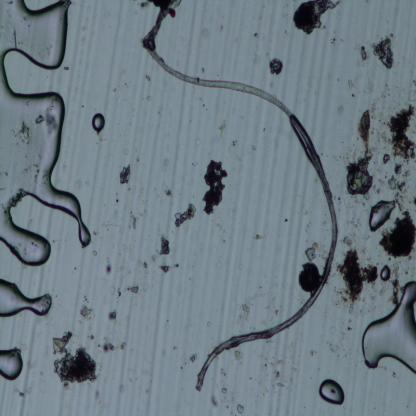Air bubble: (0, 0, 94, 267), (358, 280, 416, 384), (0, 279, 54, 321), (0, 346, 26, 384), (367, 200, 396, 234), (317, 379, 350, 404), (88, 110, 106, 134)
Background material: (345, 101, 381, 204), (45, 329, 100, 389), (340, 234, 382, 302), (381, 98, 416, 174), (201, 156, 229, 216), (386, 162, 416, 218), (290, 0, 336, 36), (385, 215, 416, 262), (370, 33, 404, 74), (31, 109, 58, 134), (384, 267, 402, 302), (168, 208, 194, 227), (268, 53, 285, 78), (156, 233, 172, 259), (365, 72, 382, 94), (80, 302, 99, 320), (116, 161, 130, 184), (16, 122, 30, 143), (327, 336, 348, 350), (238, 305, 256, 320), (306, 240, 319, 260), (158, 262, 178, 274), (217, 121, 229, 140), (108, 310, 120, 328), (380, 264, 392, 281), (370, 102, 380, 122), (127, 284, 142, 297), (406, 87, 416, 105), (104, 262, 115, 278), (249, 52, 262, 65), (276, 366, 283, 389), (128, 216, 138, 231), (235, 401, 245, 415), (199, 26, 210, 38), (235, 348, 244, 362), (142, 93, 154, 103), (164, 186, 174, 198), (137, 0, 147, 11), (161, 154, 170, 166), (360, 47, 366, 64), (336, 105, 346, 115), (120, 341, 130, 351), (346, 78, 354, 90), (119, 262, 127, 274), (252, 30, 261, 40), (106, 344, 117, 352), (387, 84, 393, 98), (117, 286, 123, 300), (141, 261, 150, 270), (216, 220, 223, 230), (208, 400, 218, 407), (221, 388, 229, 396), (146, 71, 151, 83), (150, 252, 156, 262), (92, 229, 100, 236), (329, 37, 336, 45), (230, 139, 238, 146), (121, 149, 128, 157), (310, 348, 315, 358), (190, 354, 197, 361), (256, 233, 262, 241), (92, 250, 98, 257), (65, 65, 72, 71), (252, 143, 258, 149), (348, 323, 352, 331), (197, 139, 201, 147), (349, 92, 355, 97), (126, 186, 131, 192), (283, 218, 288, 223), (322, 222, 327, 227), (138, 213, 143, 217), (192, 162, 196, 167), (116, 198, 119, 204), (106, 227, 110, 231), (136, 158, 140, 162), (413, 82, 416, 87), (284, 31, 288, 34), (263, 127, 265, 132), (124, 69, 126, 74), (202, 103, 204, 107)
Diatom: (297, 261, 320, 291)
Microfibre: (142, 0, 340, 392)
